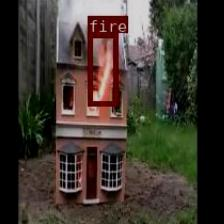fire: (87, 32, 118, 104)
